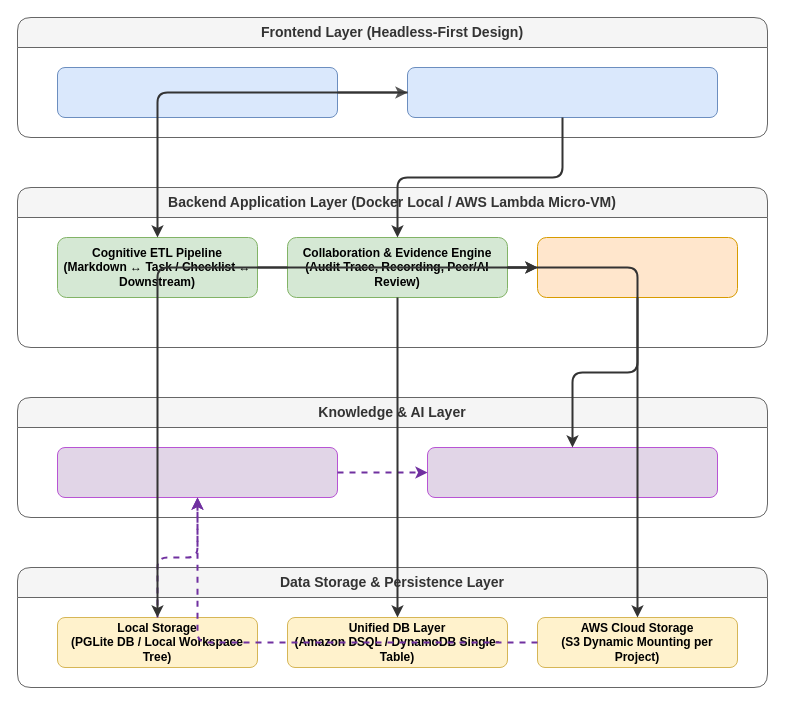
Some shapes in this 785 by 705 pixel diagram are drawn without their labels. Each missing label, with the centre of its shape:
"Custom Workspace Views (Lean Canvas Editor / QA Execution View)" goes at (197,92).
"Generative AI Models (Claude-3.5 / gemini-3.6-flash)" goes at (572,472).
"Graphify Knowledge Graph (RAG) (Workspace & Sessions Indexing)" goes at (197,472).
"Strata Headless Core / React Hooks (Buffer Mgmt, Comment Threads, Diff Tracing)" goes at (562,92).
"Unified AI Repository Layer (Anthropic / Bedrock / Gemini API)" goes at (637,267).
